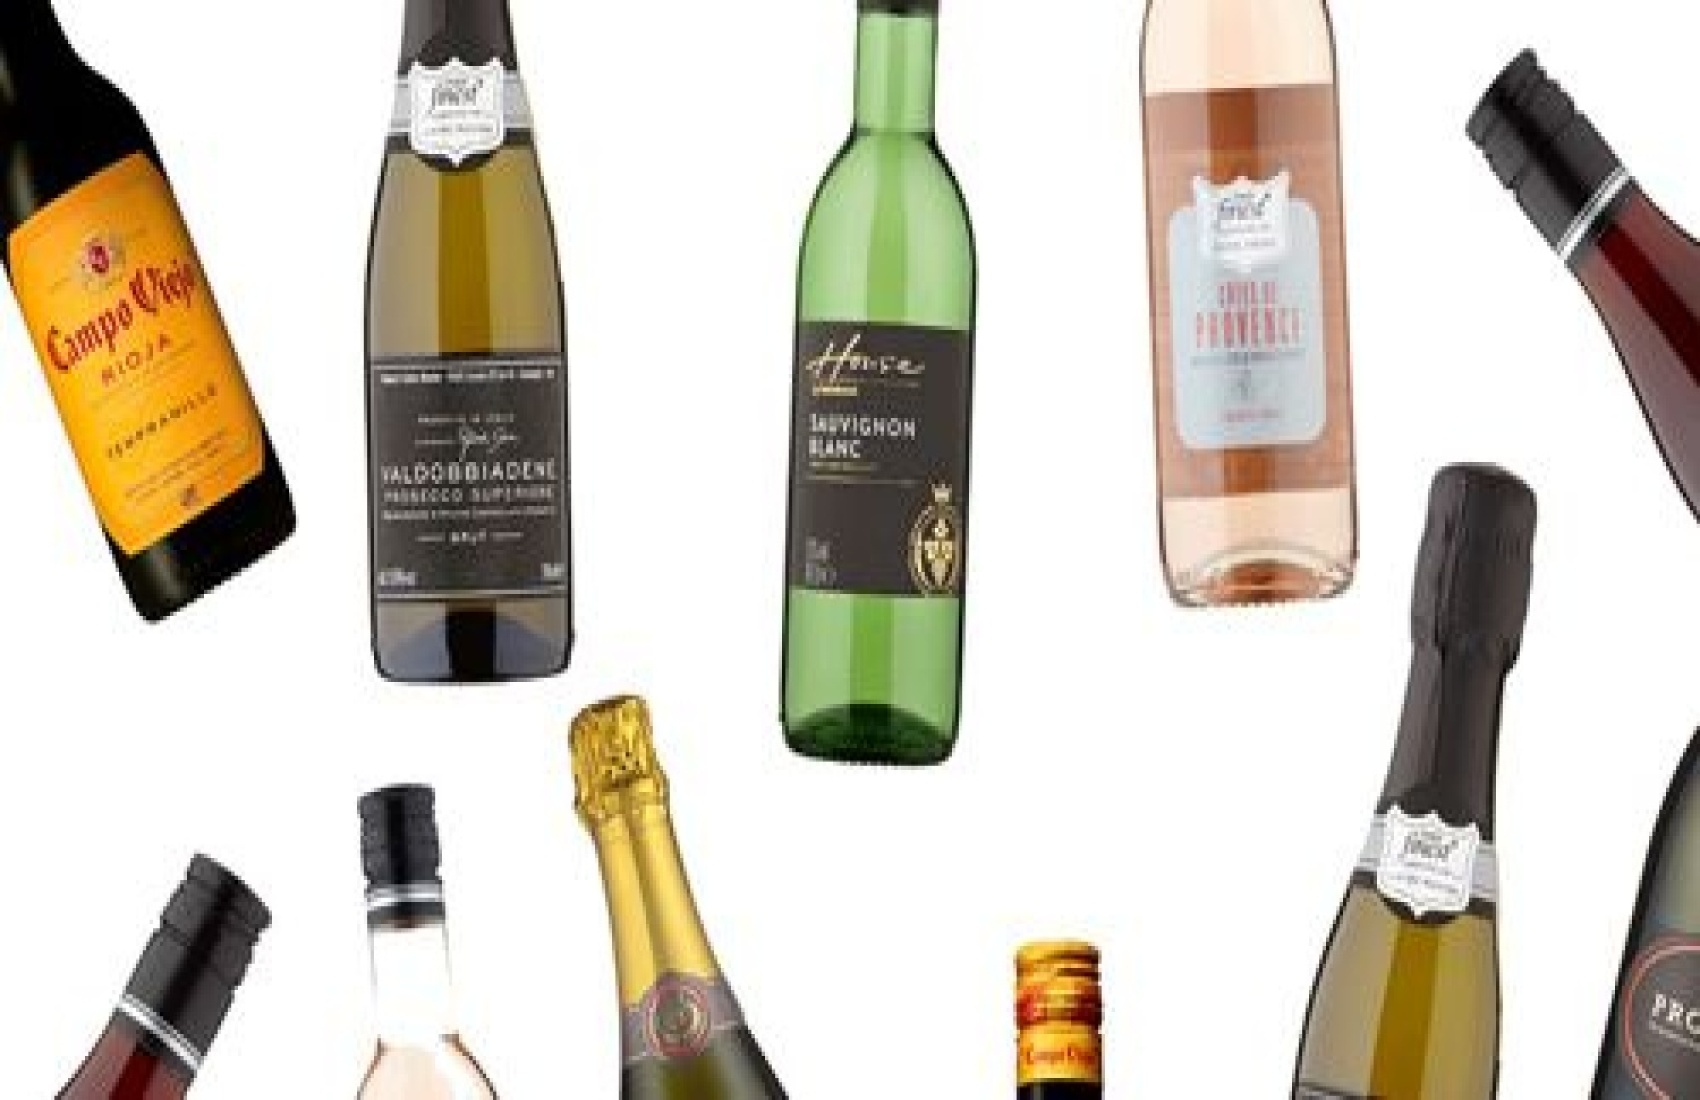wine: (357, 2, 585, 684), (781, 10, 971, 753), (1135, 1, 1363, 592)
